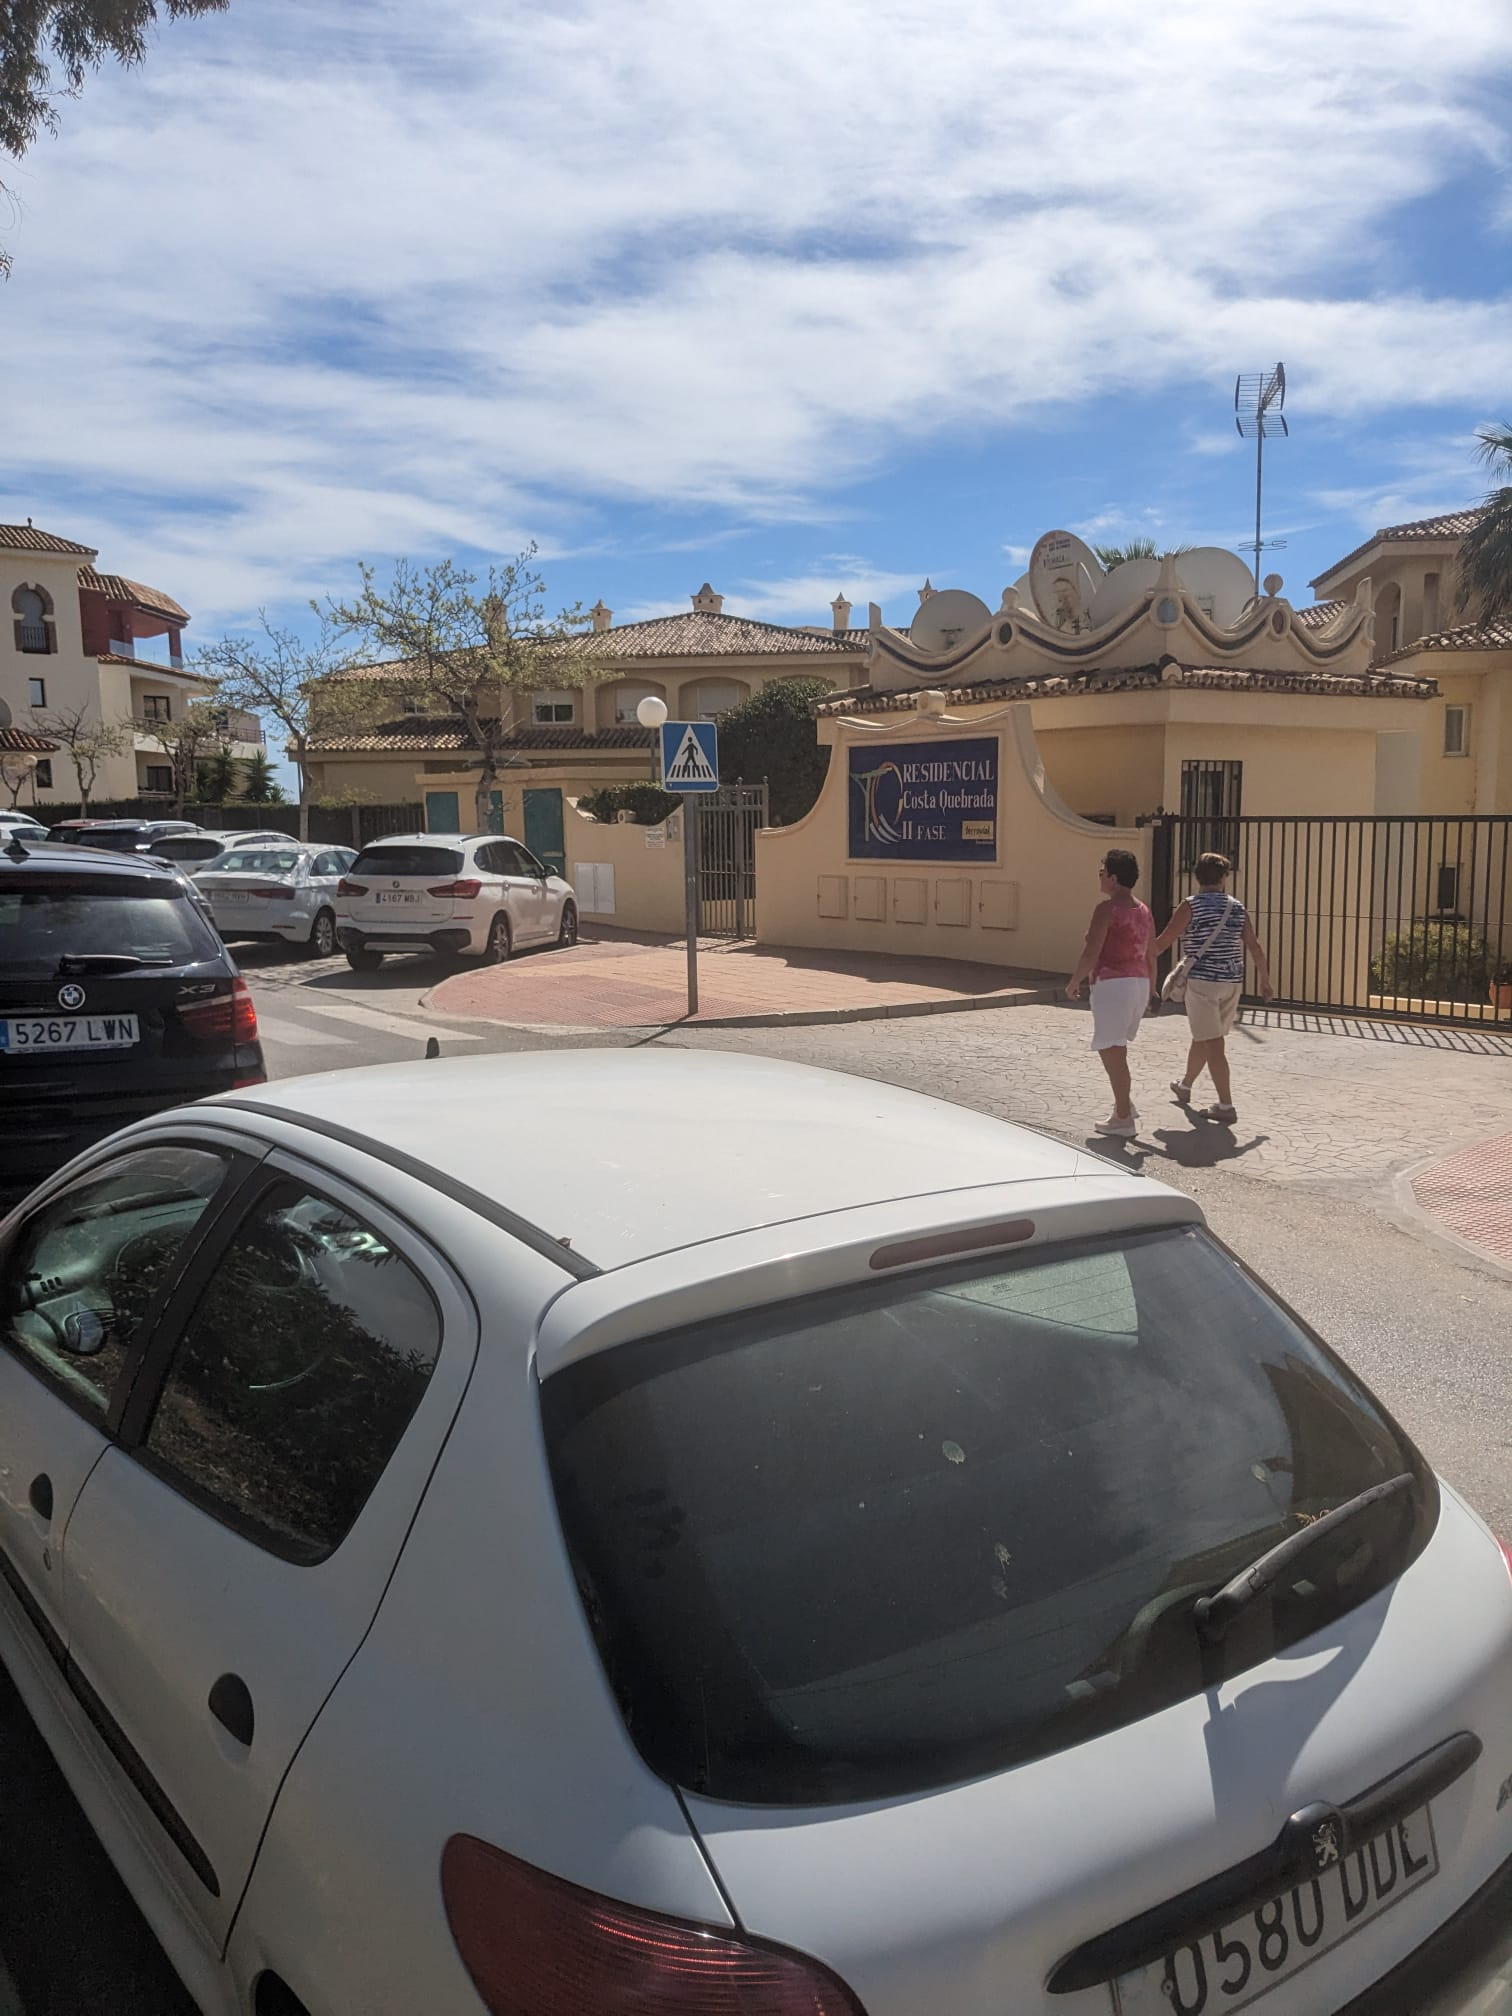car: (3, 1024, 1509, 2014), (3, 819, 256, 1170), (329, 829, 597, 964), (210, 835, 361, 941), (151, 829, 260, 881), (64, 806, 192, 846)
